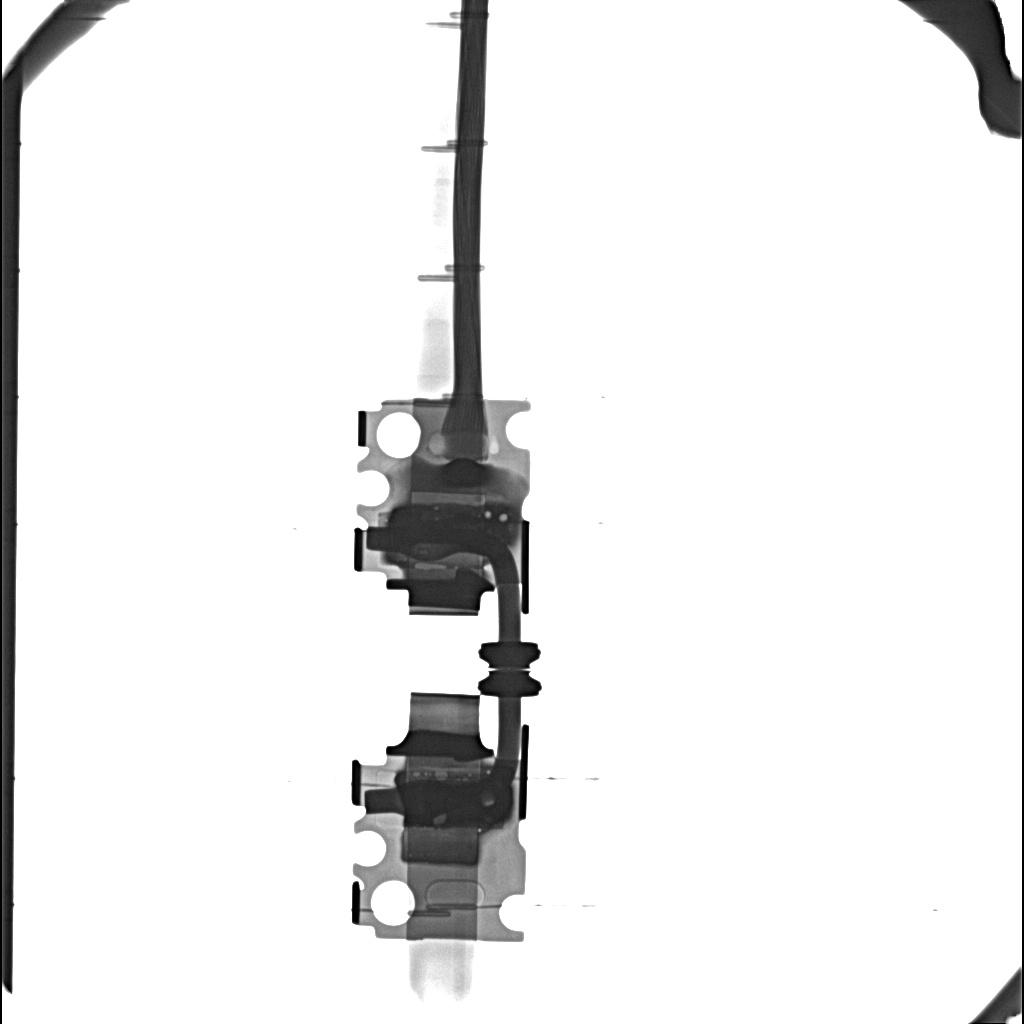PX: (400, 830, 481, 866), (410, 490, 488, 502)
QP: (415, 563, 446, 569), (435, 772, 447, 781), (412, 771, 420, 778)
SX: (389, 504, 515, 549), (401, 782, 510, 825)
